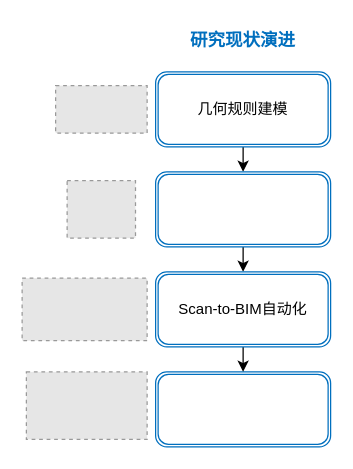
Image size: 353x469. Some labels were removed from this diagram. Grey dashed boxes stand in for pictures. Each missing label, with the centre of its shape:
大模型结构化表达: [242,409]
学习式结构恢复: [242,209]
